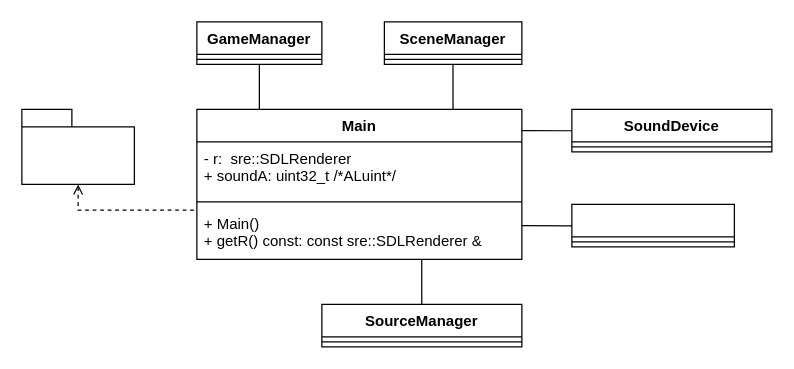
The diagram is 794 pixels wide and 369 high, and some of its shapes have lost their labels. The shapes that lost their labels are listed below. From the top down, each one's centre as x and y in pixels, then its label:
At point 77,146: "SRE".
At point 652,225: "MusicBuffer".
